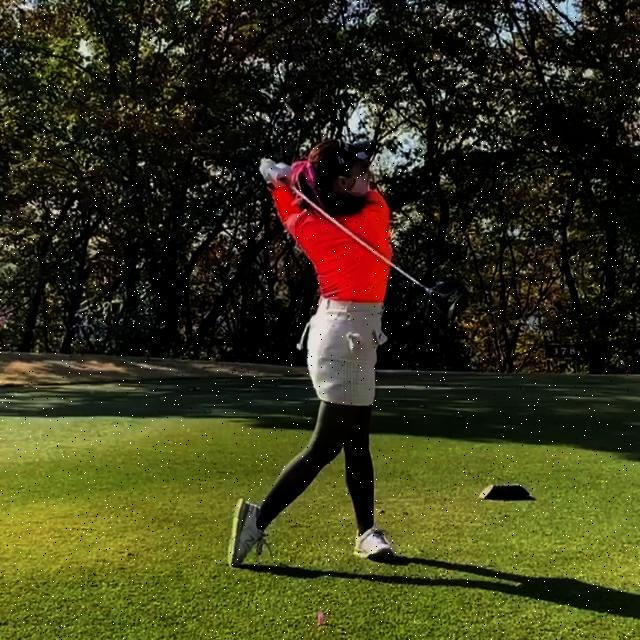golf club-handle: (281, 177, 468, 320)
golf club-head: (430, 280, 469, 320)
